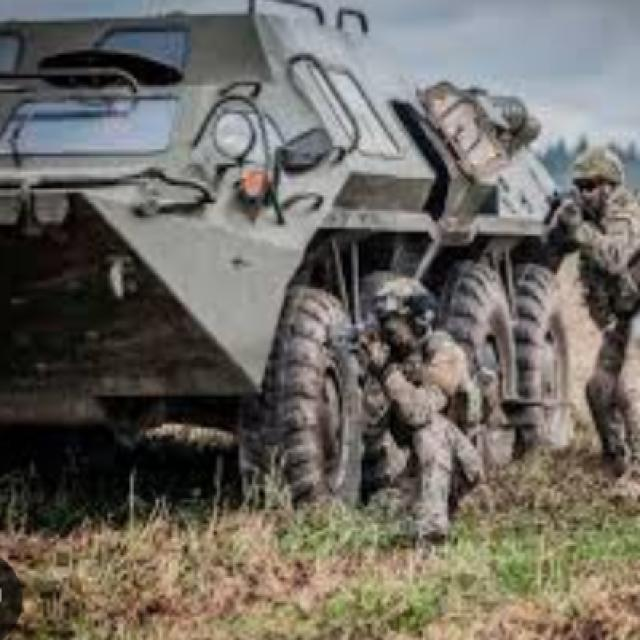MIL_APC: (0, 15, 611, 492)
